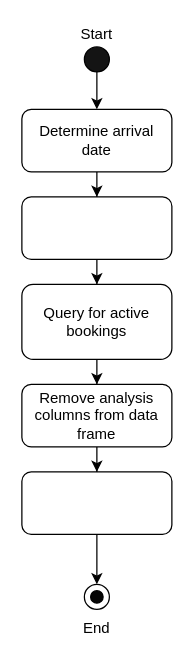
The diagram is 194 pixels wide and 661 high, and some of its shapes have lost their labels. Here are the shapes that lost their labels. From the top down, the centre of each, then its label:
(96,227): Calculate leaving date
(96,502): Save cleaned data frame as CSV
